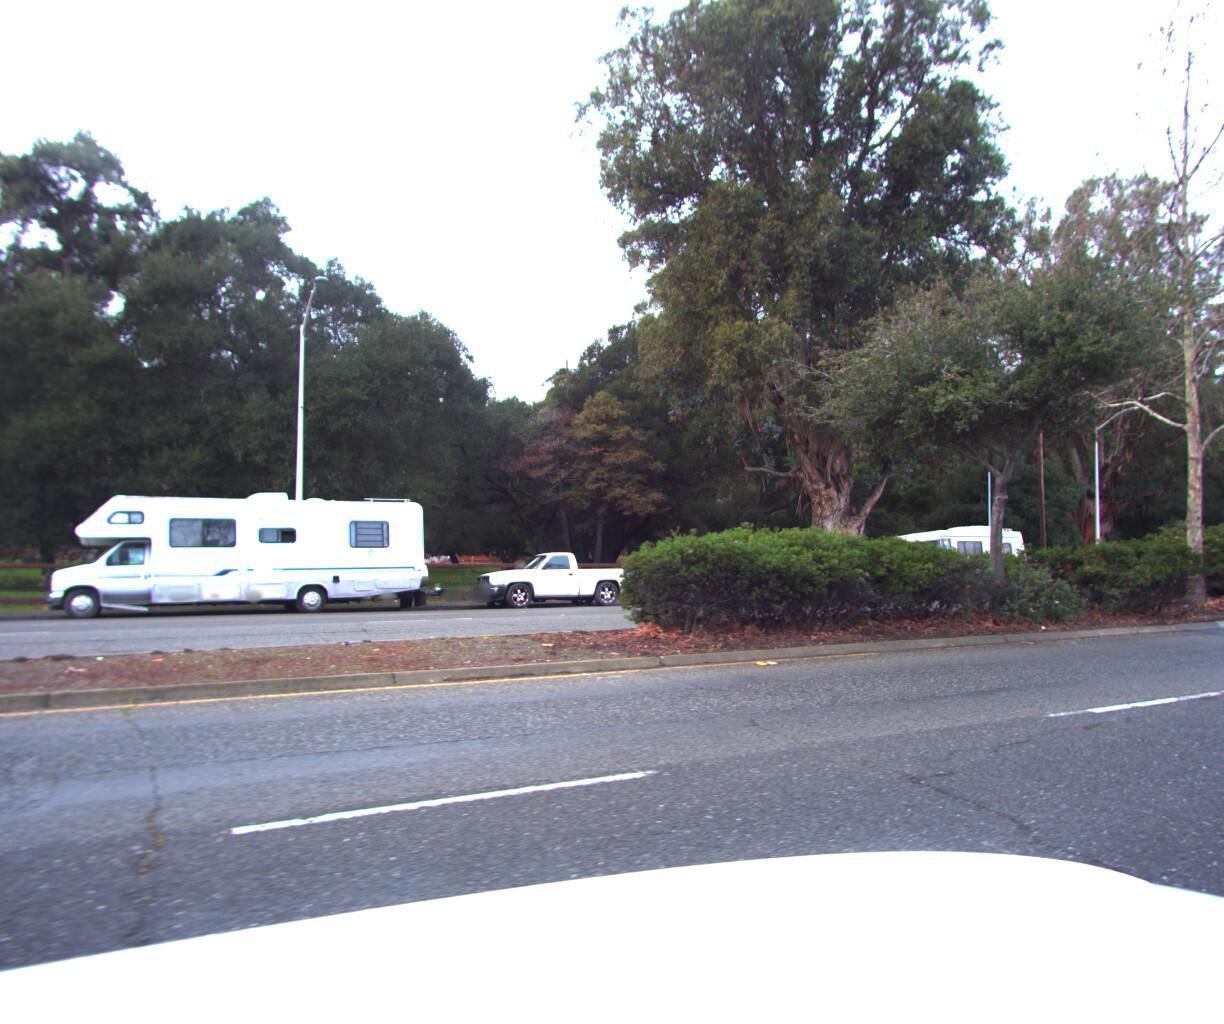car: (463, 551, 641, 612)
other_vehicle: (29, 480, 440, 631), (867, 520, 1035, 601)
